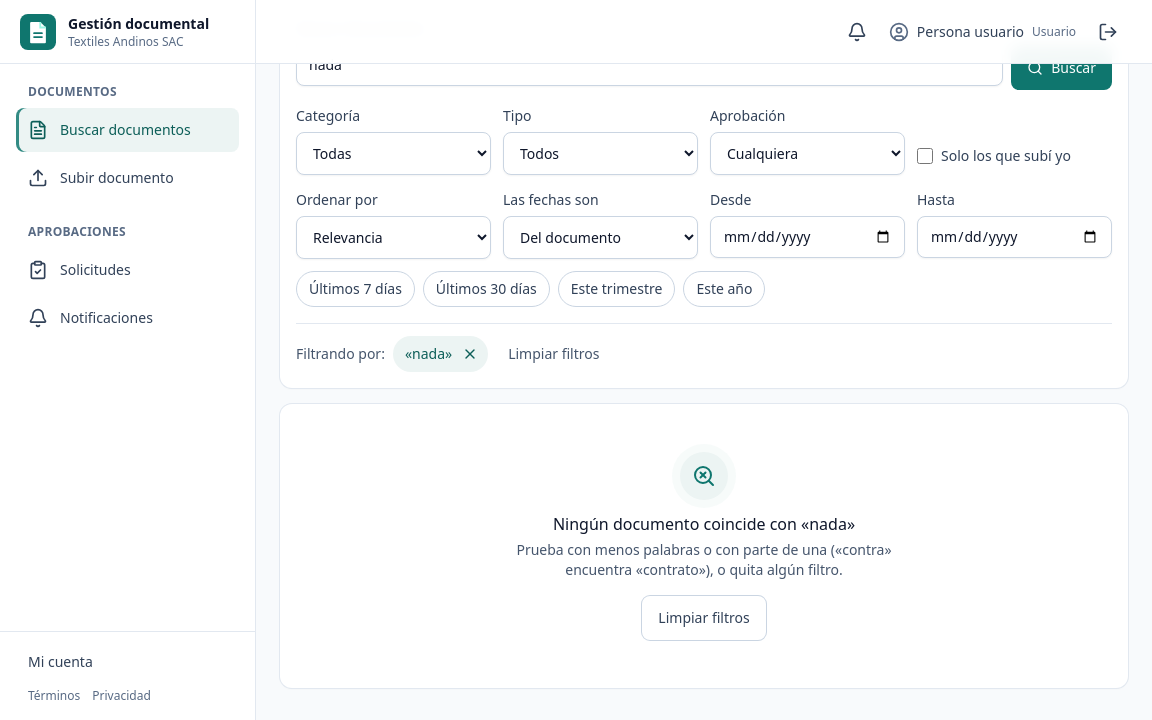
Documentos › sin resultados lo dice con lo buscado y ofrece limpiar los filtros
The image size is (1152, 720).
(page scrolled)
Click the button "Limpiar filtros" below "Ningún documento coincide con «nada»".
click(704, 618)  # box [642,596,766,640]
(page scrolled)
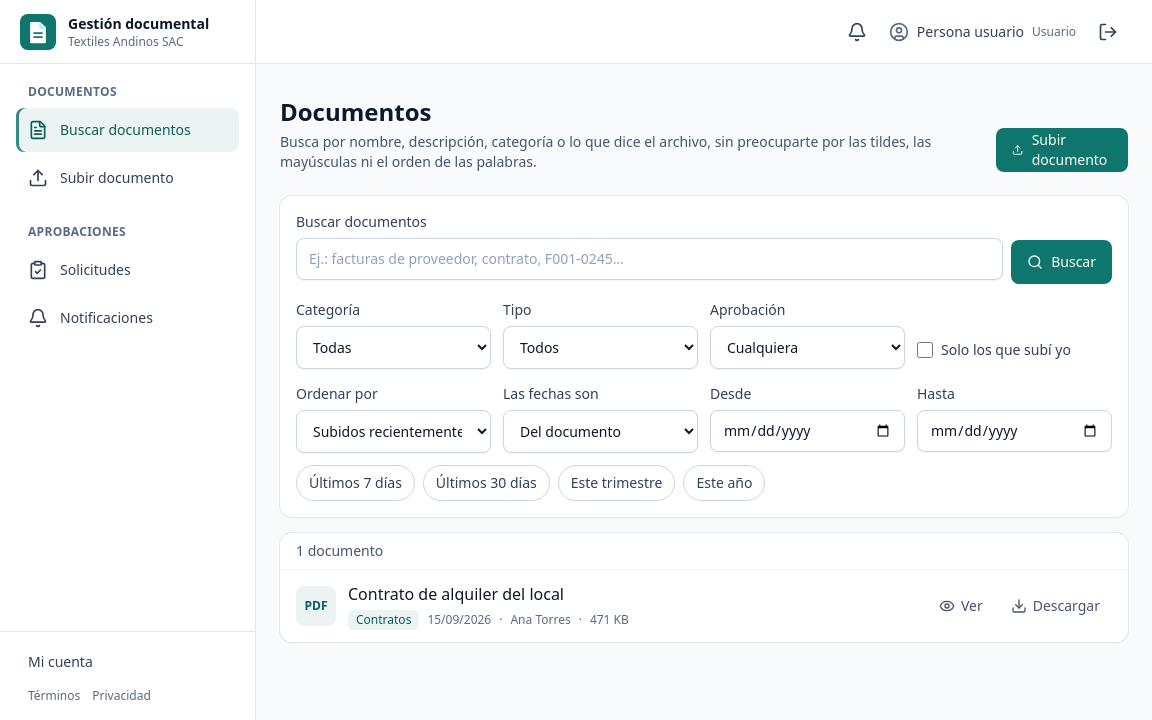
Expected: the dropdown labelled "Buscar documentos" is empty, [296,238,1003,280]
